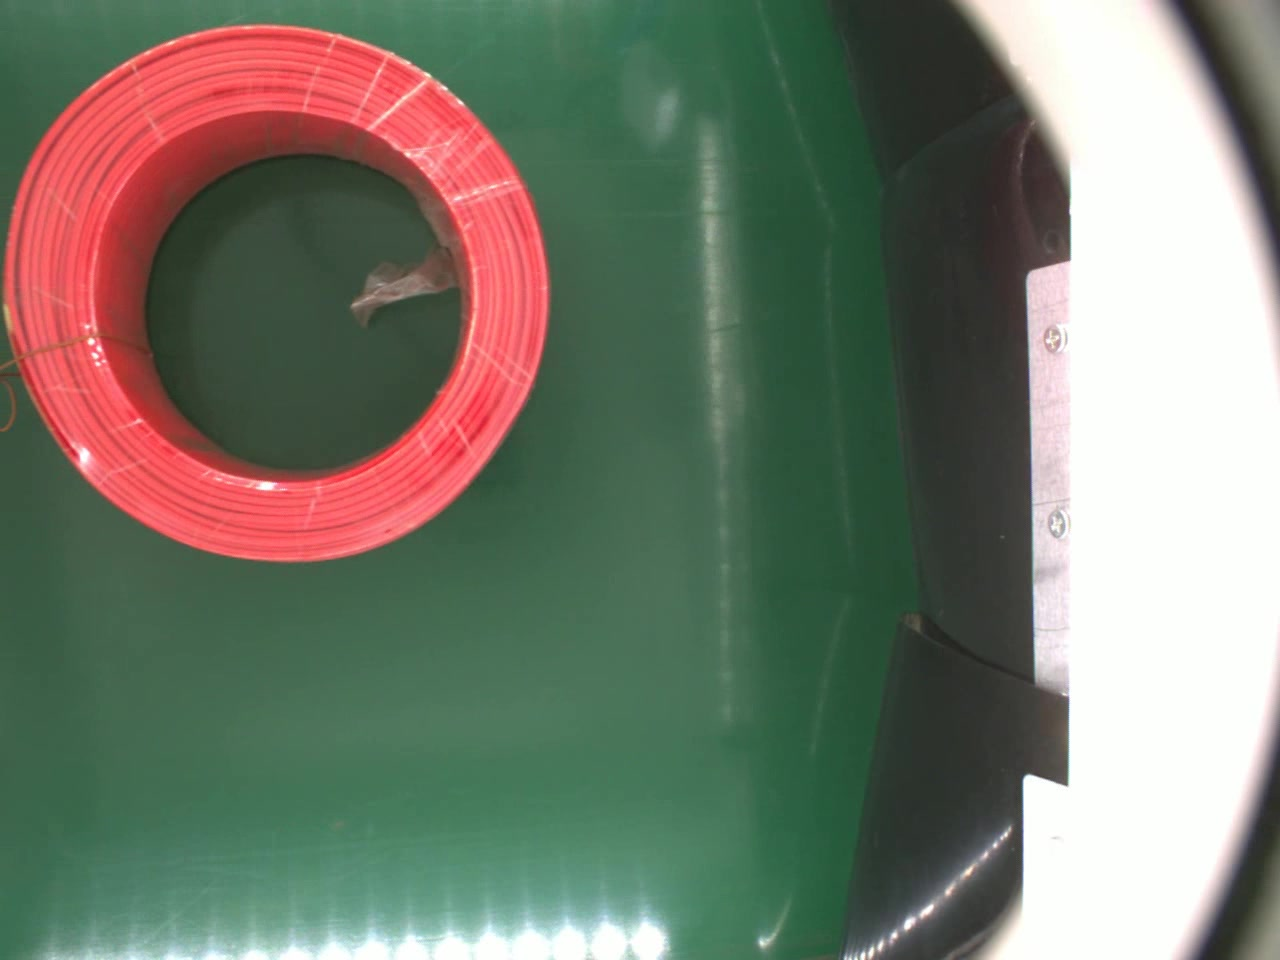red: (0, 23, 551, 563)
